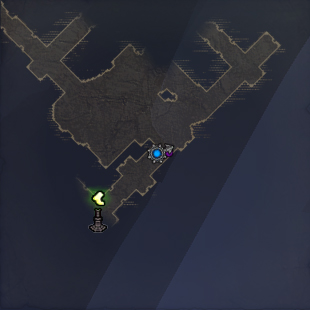SpeedPylon: (90, 190, 108, 232)
